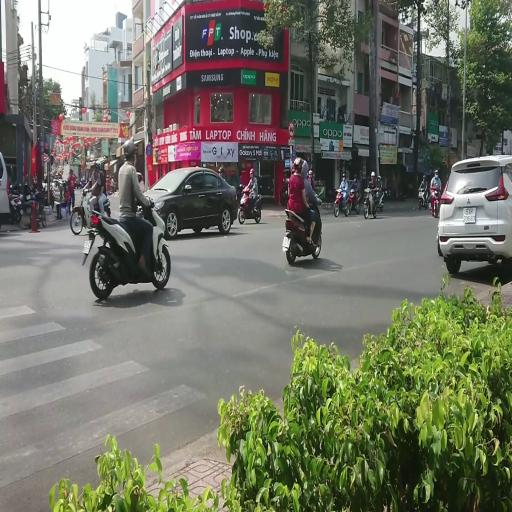bikes: (82, 196, 170, 300), (282, 189, 323, 264), (70, 185, 110, 235), (8, 180, 46, 228), (237, 185, 262, 224), (8, 181, 24, 224), (418, 166, 434, 209), (333, 185, 350, 217), (33, 188, 46, 228), (364, 186, 379, 218), (345, 185, 361, 215), (430, 186, 442, 217), (418, 182, 429, 210), (375, 176, 384, 210), (280, 177, 290, 205), (106, 174, 117, 196), (314, 185, 325, 205), (58, 179, 67, 200)
helmet: (122, 139, 136, 159), (293, 157, 303, 172), (301, 160, 309, 178), (90, 160, 100, 170), (137, 172, 143, 183), (90, 161, 97, 168), (95, 162, 100, 170), (308, 170, 313, 177), (371, 171, 375, 179), (250, 168, 254, 174), (81, 176, 85, 182), (342, 173, 346, 178), (422, 174, 426, 179), (106, 174, 110, 179), (435, 170, 438, 176), (377, 176, 381, 180), (218, 168, 222, 172), (70, 168, 73, 173), (354, 174, 356, 179)
